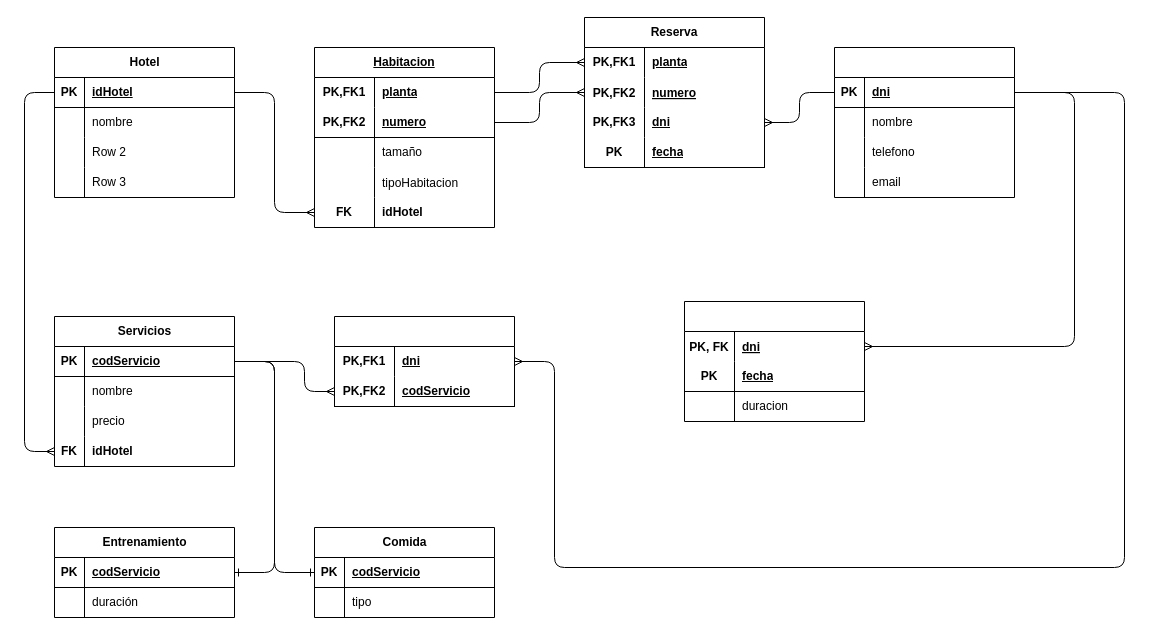
Image size: 1150x635. Some labels were removed from this diagram. The shapes that lost their labels are listed below. From the top down, each one's box as (x1, y1, x2, y2) in pixels, then its label:
(834, 46, 1014, 198): Cliente
(334, 316, 514, 406): Utiliza
(684, 300, 864, 422): ReservaSuiteVip
